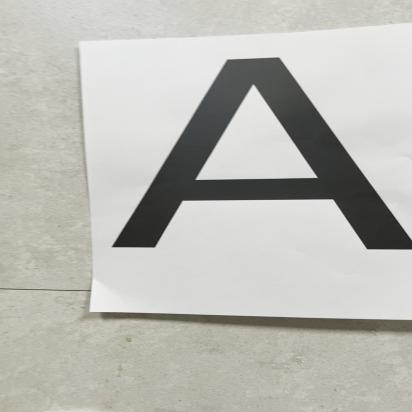seat: (111, 49, 412, 283)
